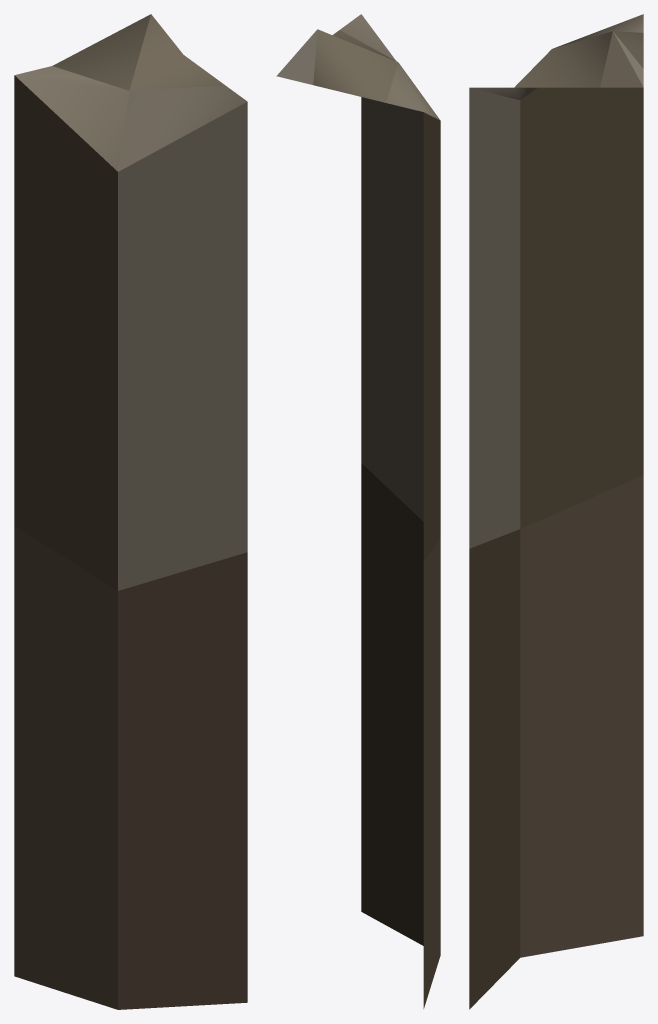
Rendered from Wall_CutLog-Corner.fbx.
3 renders of one model, left to right at view 1: azimuth 30°, elevation 25°; view 2: azimuth 150°, elevation 25°; view 3: azimuth 270°, elevation 25°, orthographic. The views are drawn at different scales.
Parts seen in each view (by area): view 1: Wall_CutLog-Corner; view 2: Wall_CutLog-Corner; view 3: Wall_CutLog-Corner.
Boxes of the visible parts, x1,y1,x2,y2 form: Wall_CutLog-Corner: (14,14,247,1009); Wall_CutLog-Corner: (276,14,440,1008); Wall_CutLog-Corner: (469,14,643,1009).
Bounding box in the file's own units: 34.05 × 208 × 34.05.
